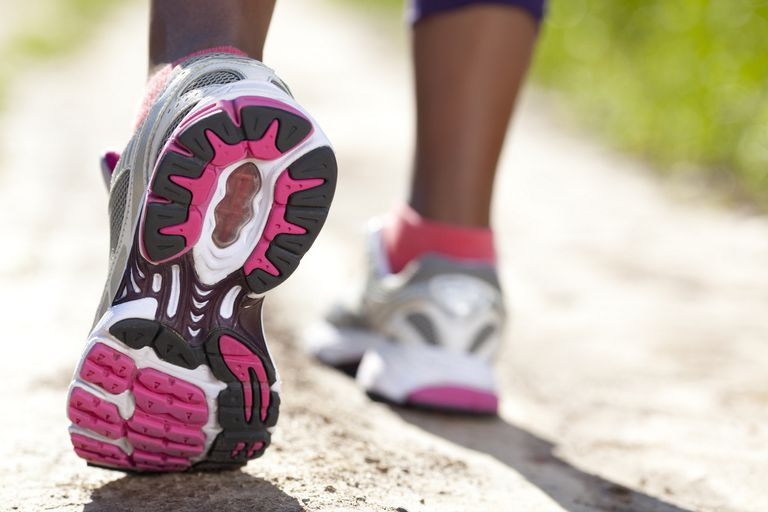feet: (78, 9, 515, 457)
